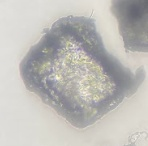microplastic: (18, 14, 147, 131), (109, 1, 148, 54), (123, 131, 148, 145)
